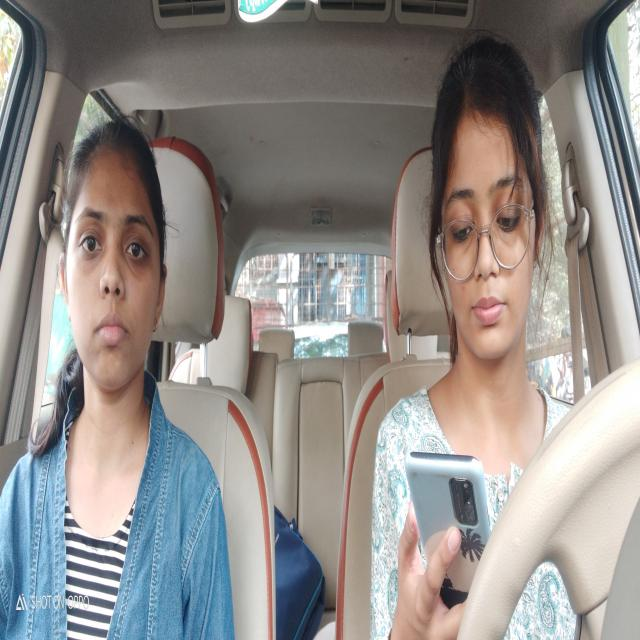mobile: (403, 448, 499, 612)
person: (431, 26, 545, 366), (53, 130, 168, 393)
